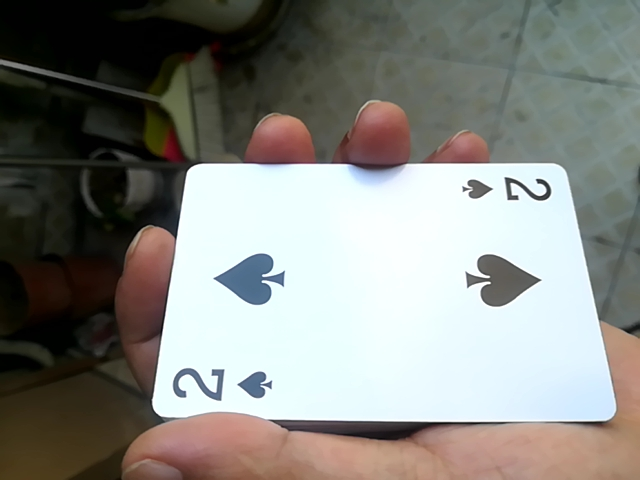ht 2: (143, 152, 600, 429)
